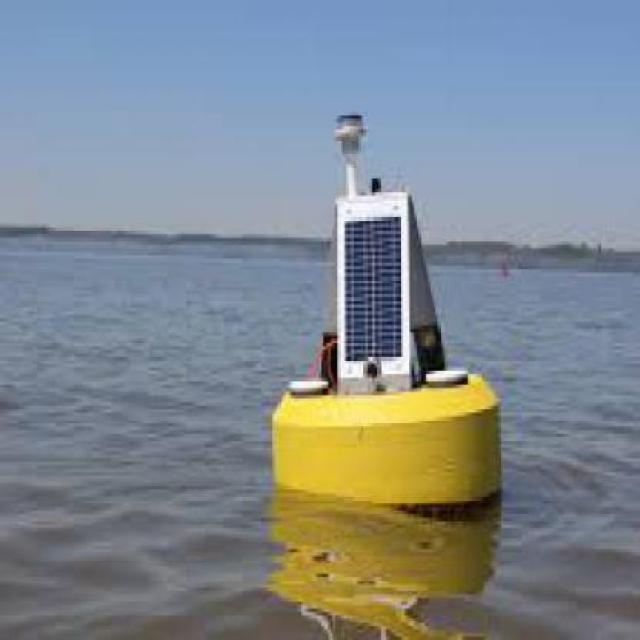buoy: (264, 102, 513, 533)
